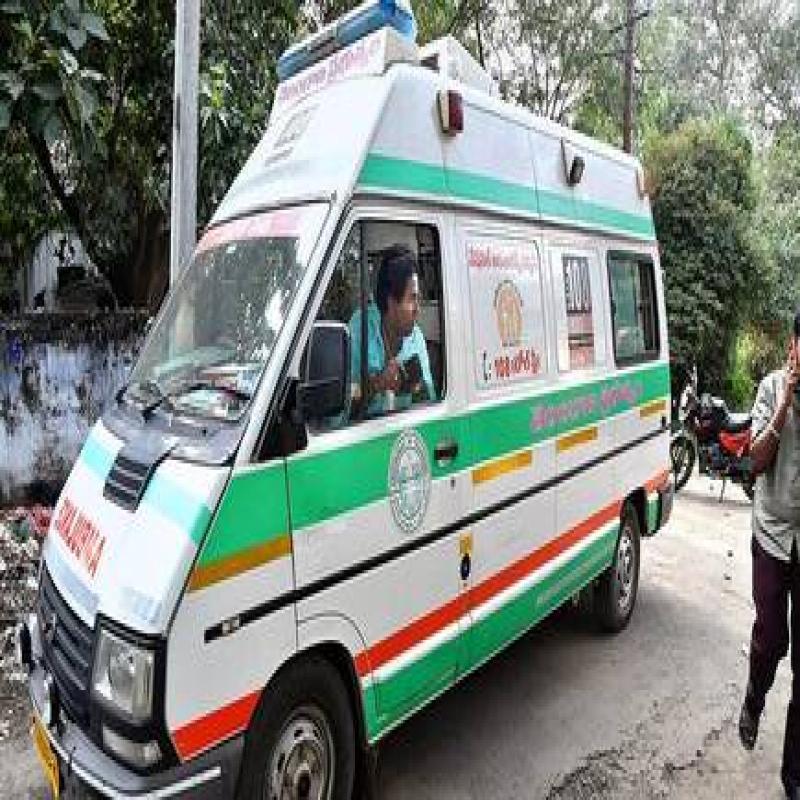ambulance: (51, 84, 640, 708)
